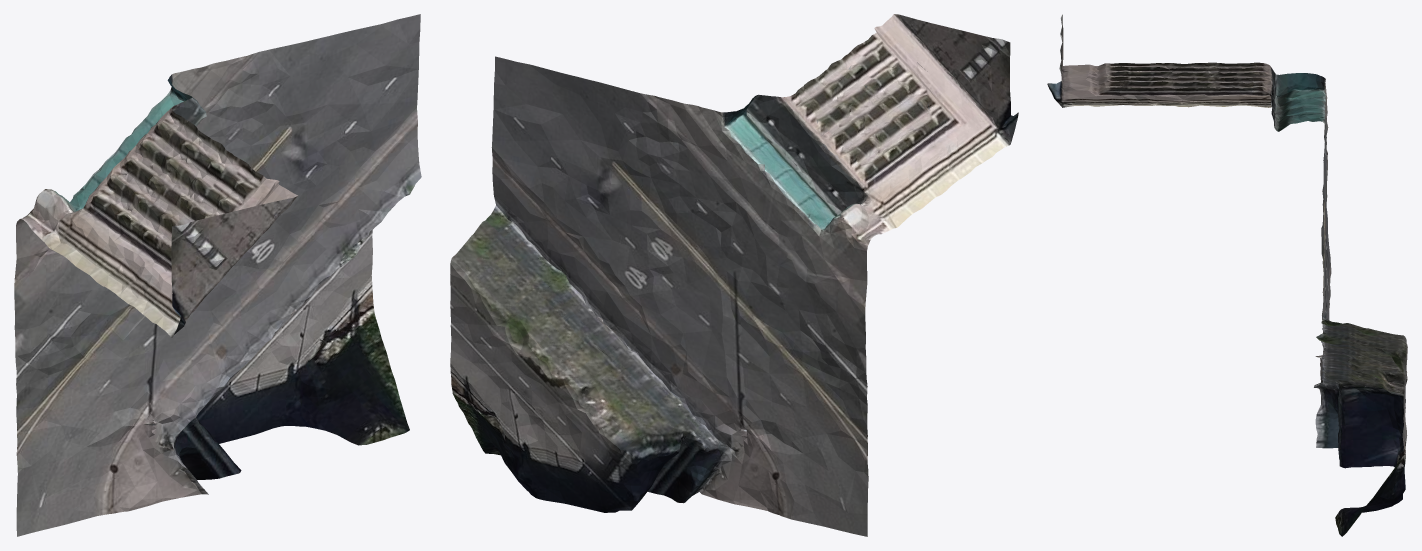
File: Tile_+032_+021_L21_00020200.obj
3 views of the same model, side by side, from view 1: azimuth 30°, elevation 25°; view 2: azimuth 150°, elevation 25°; view 3: azimuth 270°, elevation 25° (orthographic). The views are drawn at different scales.
Size of the model in its own units: 31.31 by 31.38 by 28.74.
Materials: 1 (1 with a texture image).
